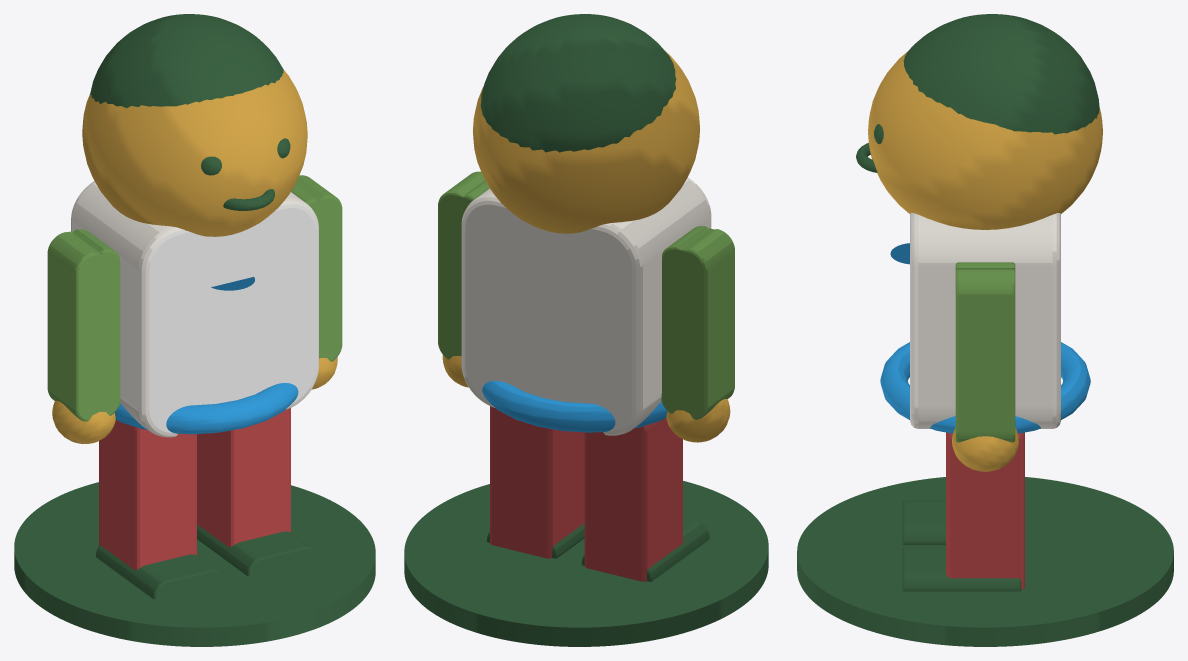
Rendered from 0674_史前人类图鉴_巨石阵.glb.
The picture shows the model from 3 angles, left to right: view 1: azimuth 30°, elevation 25°; view 2: azimuth 150°, elevation 25°; view 3: azimuth 270°, elevation 25°; orthographic projection.
Visible parts, largest first — view 1: card_0674; view 2: card_0674; view 3: card_0674.
Boxes of the visible parts, x1,y1,x2,y2 form: card_0674: (14,14,375,646); card_0674: (404,14,768,646); card_0674: (797,14,1173,646).
Bounding box in the file's own units: 0.5977 × 1 × 0.6243.
